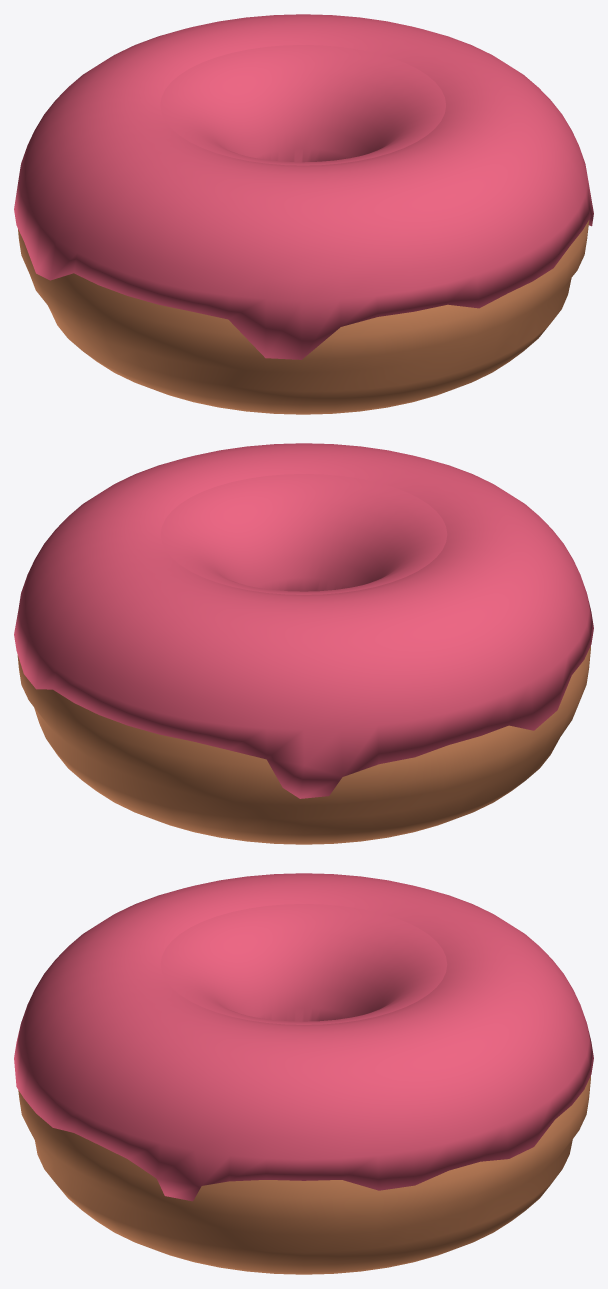
The picture shows the model from 3 angles, top to bottom: view 1: azimuth 30°, elevation 25°; view 2: azimuth 150°, elevation 25°; view 3: azimuth 270°, elevation 25°; orthographic projection.
Parts seen in each view (by area): view 1: donutglaze, donutdough; view 2: donutglaze, donutdough; view 3: donutglaze, donutdough.
Boxes of the visible parts, bbox=[...] form: donutglaze: bbox=[14, 14, 593, 359]; donutdough: bbox=[18, 220, 589, 414]; donutglaze: bbox=[14, 443, 593, 798]; donutdough: bbox=[17, 646, 590, 844]; donutglaze: bbox=[14, 873, 593, 1201]; donutdough: bbox=[18, 1076, 590, 1274].
Bounding box in the file's own units: 1.29 × 0.5664 × 1.29.
